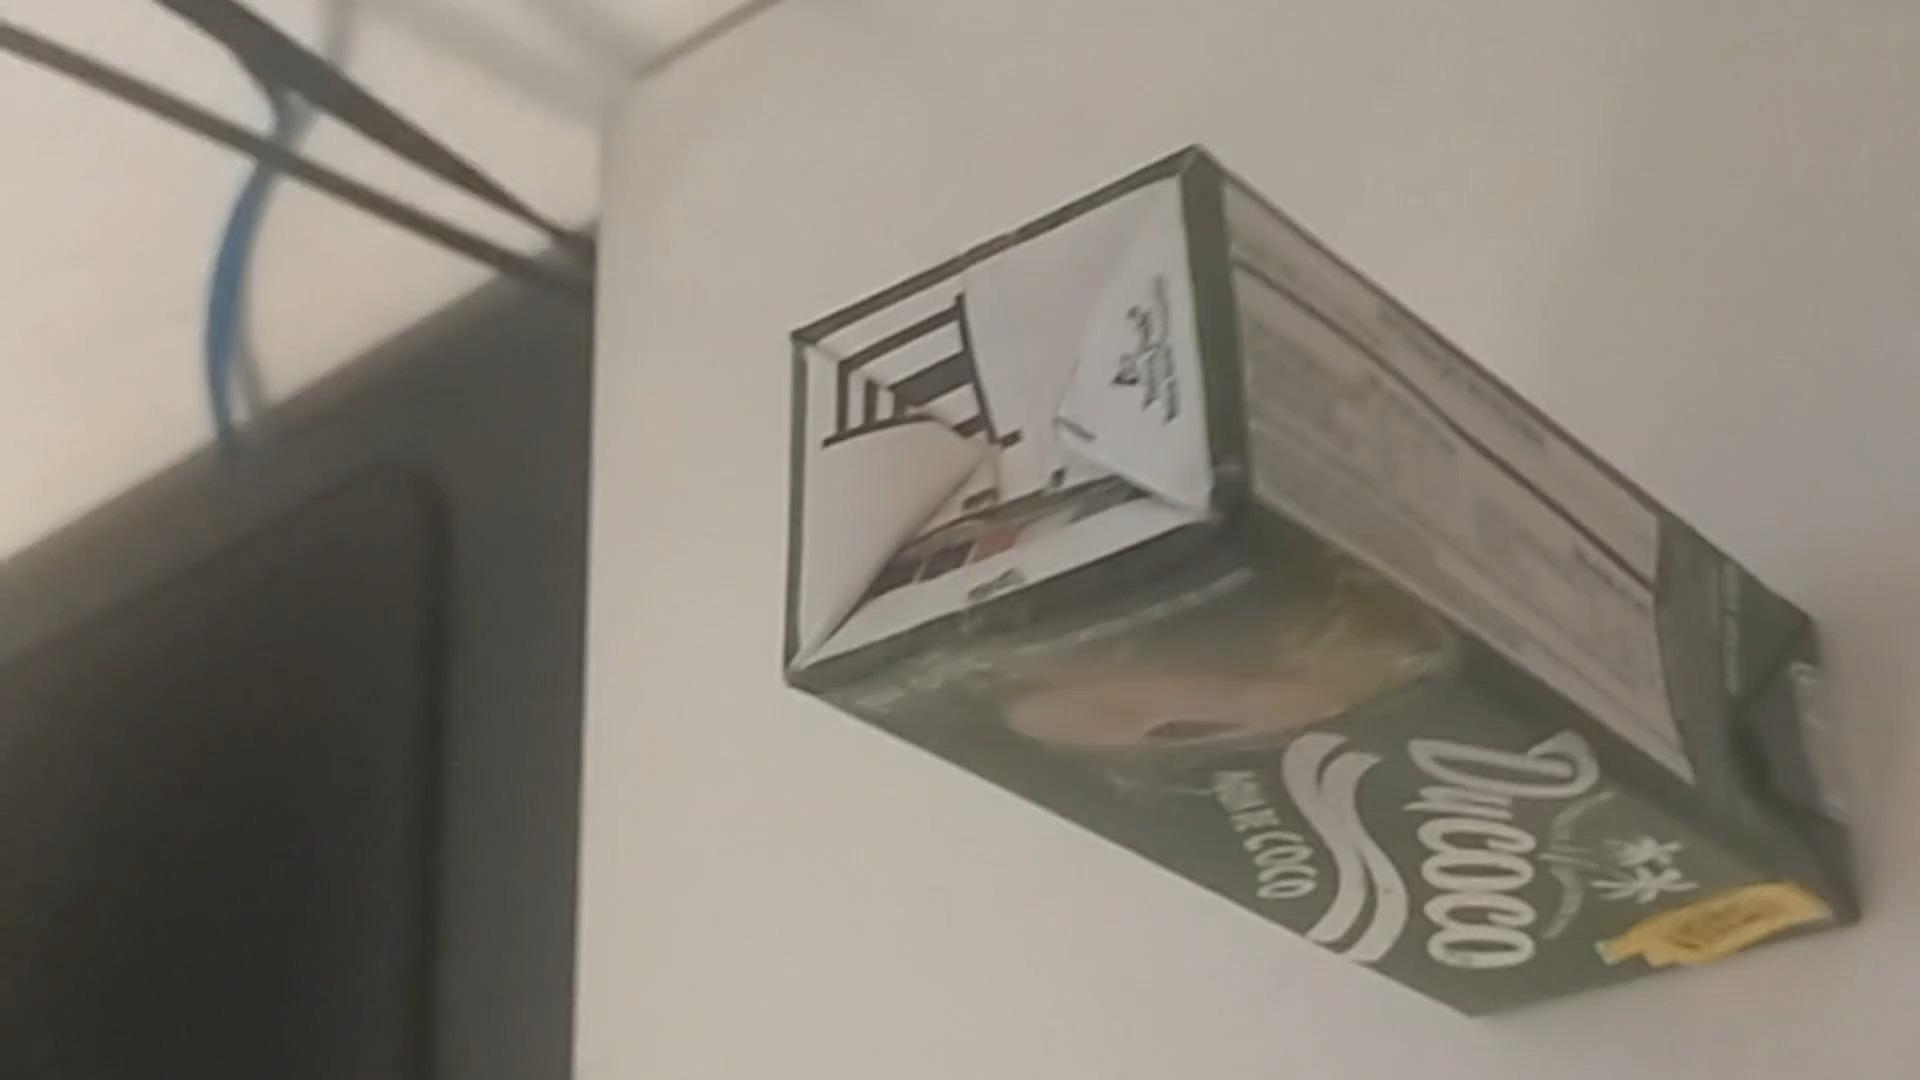coco: (775, 149, 1849, 1022)
